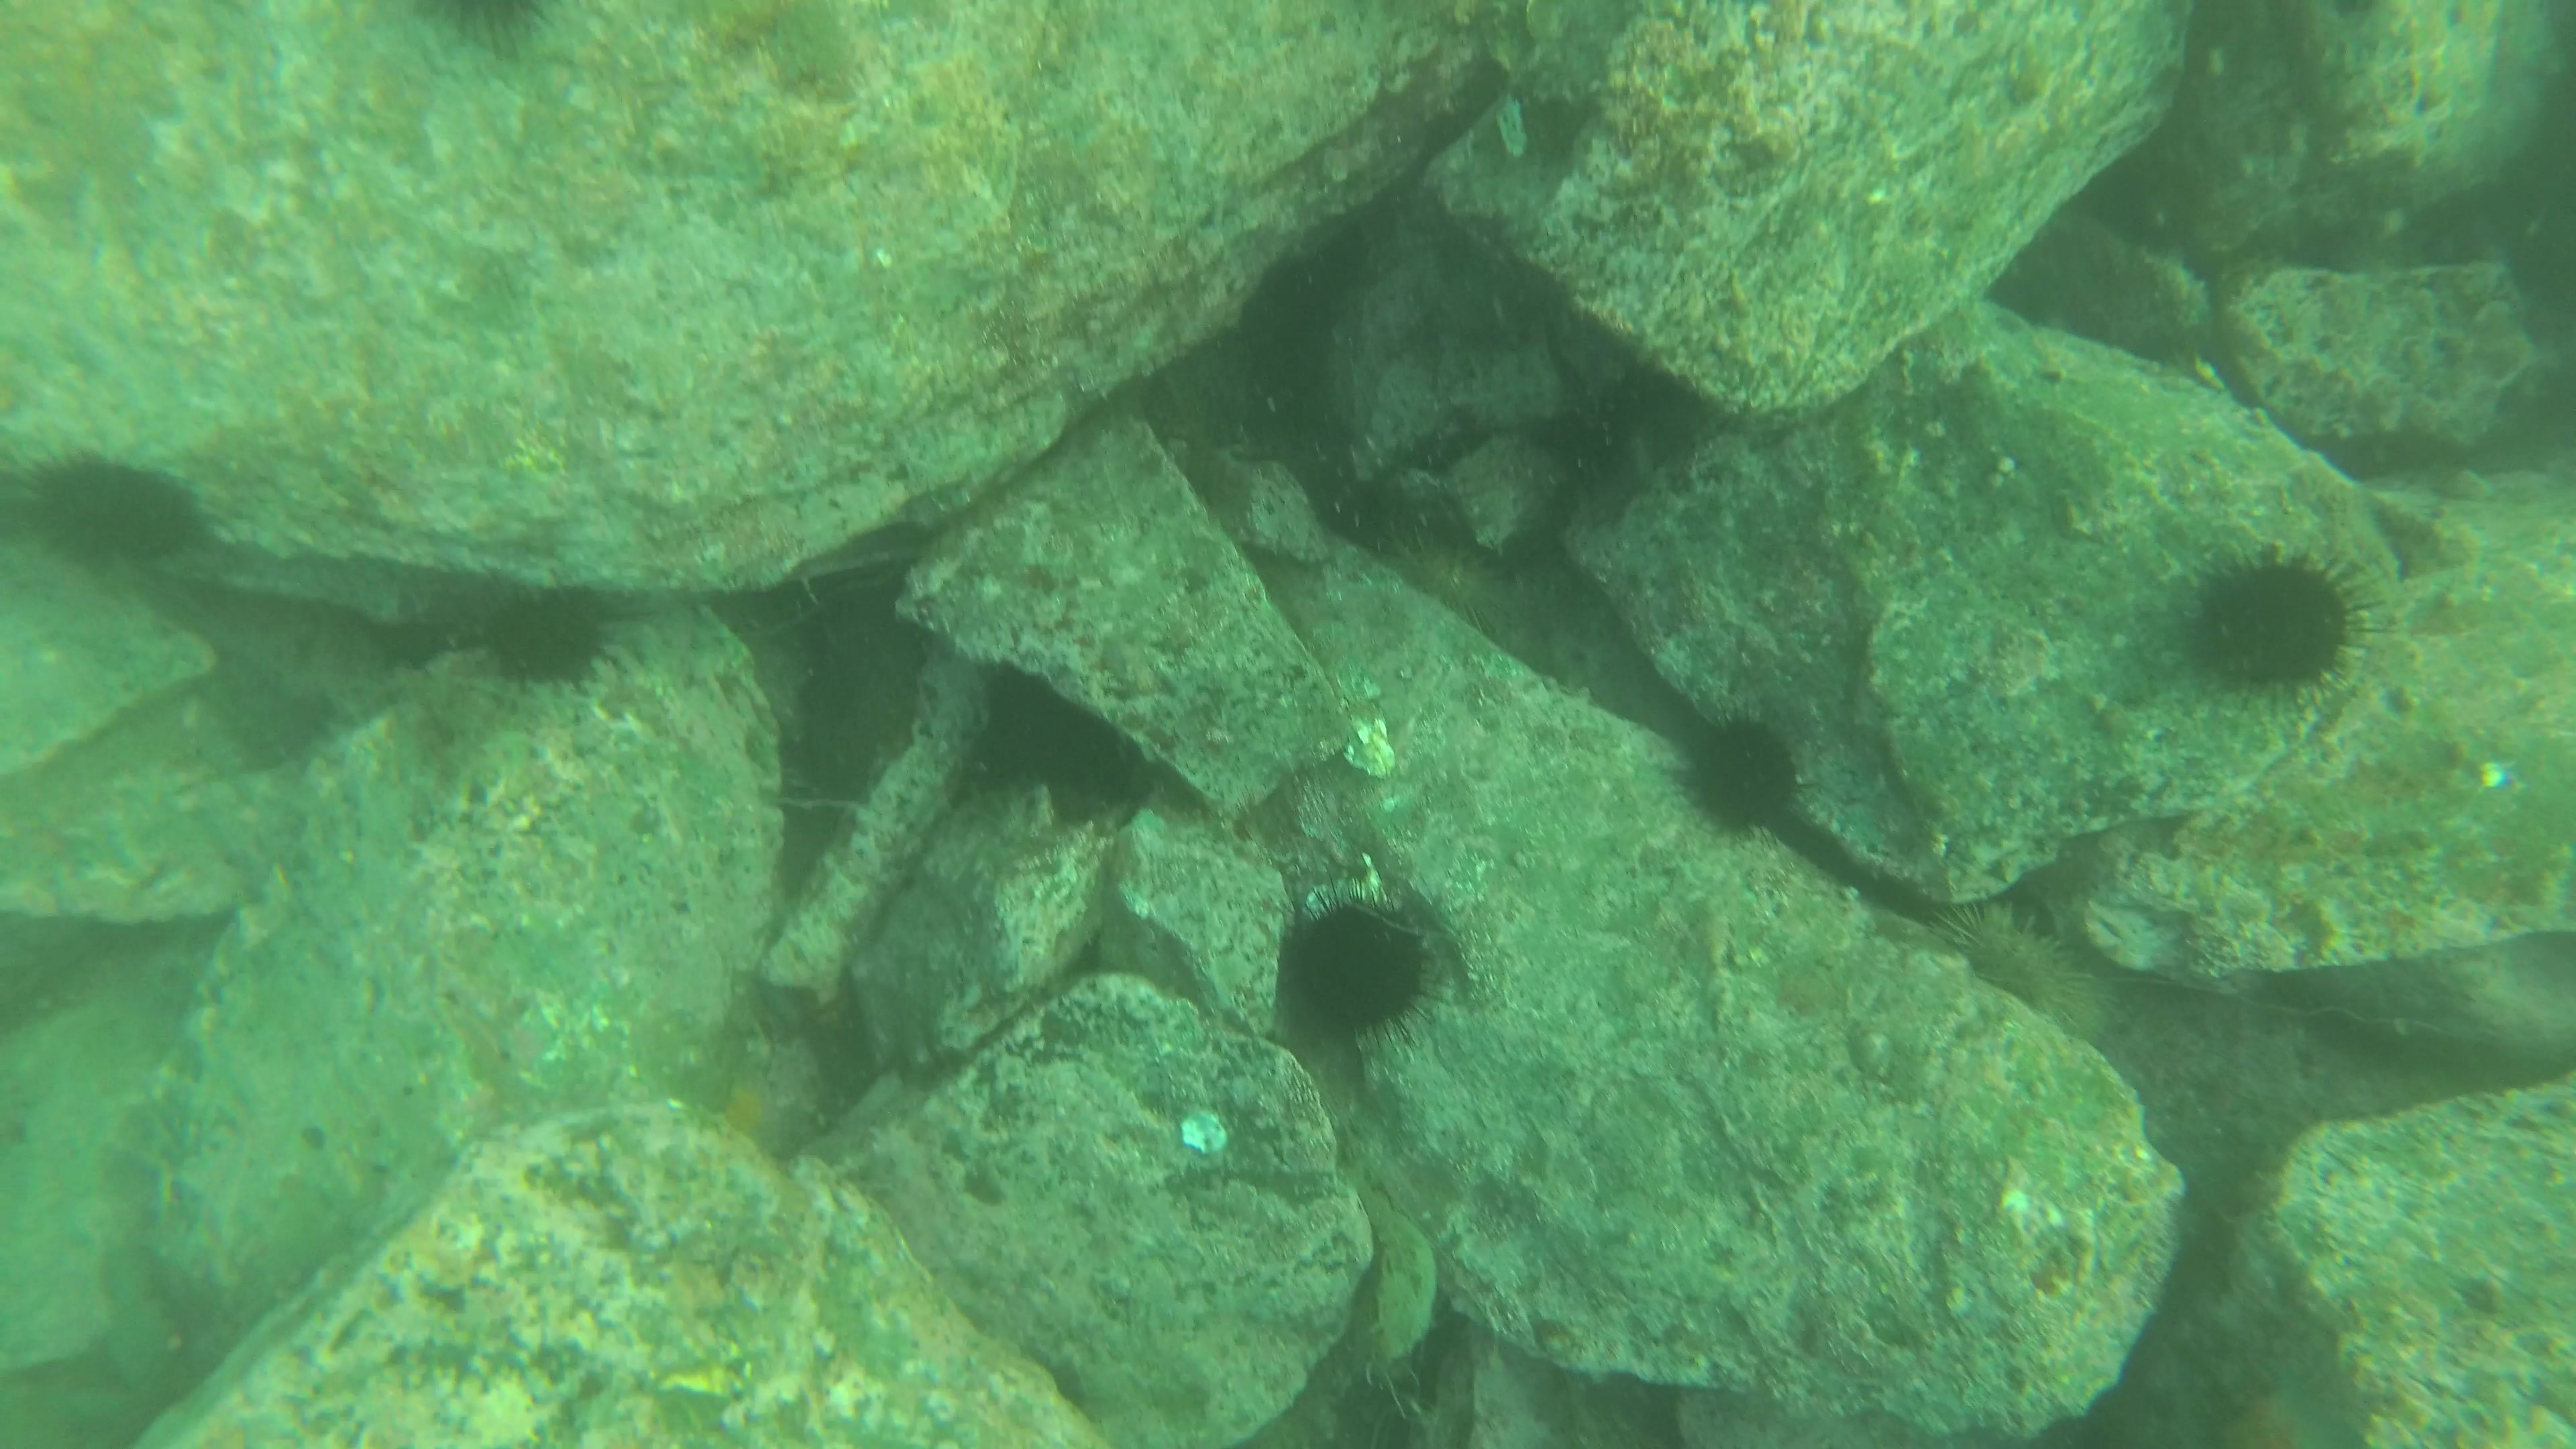echinus: (1270, 893, 1438, 1051), (2197, 557, 2355, 695), (14, 456, 203, 568), (1677, 718, 1799, 833), (494, 586, 605, 685)
